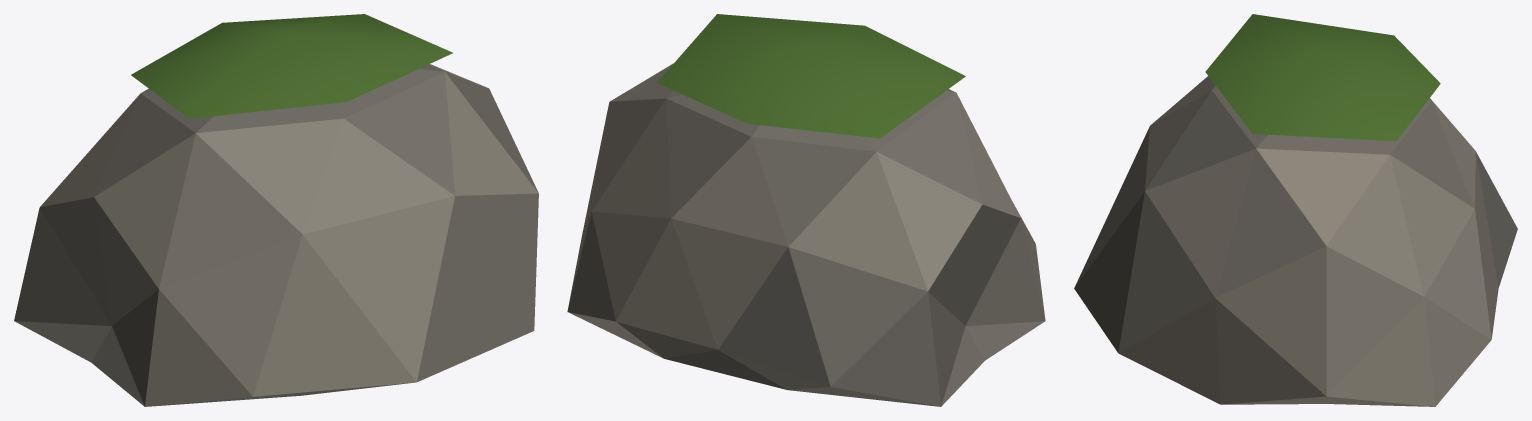
Rendered from BoulderFlat.glb.
The picture shows the model from 3 angles, left to right: view 1: azimuth 30°, elevation 25°; view 2: azimuth 150°, elevation 25°; view 3: azimuth 270°, elevation 25°; orthographic projection. The views are drawn at different scales.
Visible parts, largest first — view 1: BoulderFlat.stone, BoulderFlat.stoneDark, BoulderFlat.moss; view 2: BoulderFlat.stoneDark, BoulderFlat.stone, BoulderFlat.moss; view 3: BoulderFlat.stone, BoulderFlat.stoneDark, BoulderFlat.moss.
Boxes of the visible parts, x1=… form: BoulderFlat.stone: x1=40, y1=64, x2=538, y2=406; BoulderFlat.stoneDark: x1=14, y1=64, x2=538, y2=406; BoulderFlat.moss: x1=131, y1=14, x2=452, y2=118; BoulderFlat.stoneDark: x1=664, y1=89, x2=1045, y2=406; BoulderFlat.stone: x1=567, y1=63, x2=1045, y2=358; BoulderFlat.moss: x1=657, y1=14, x2=965, y2=138; BoulderFlat.stone: x1=1074, y1=76, x2=1498, y2=406; BoulderFlat.stoneDark: x1=1074, y1=85, x2=1517, y2=352; BoulderFlat.moss: x1=1205, y1=14, x2=1440, y2=141.
Bounding box in the file's own units: 2.6 × 1.6 × 2.4.
